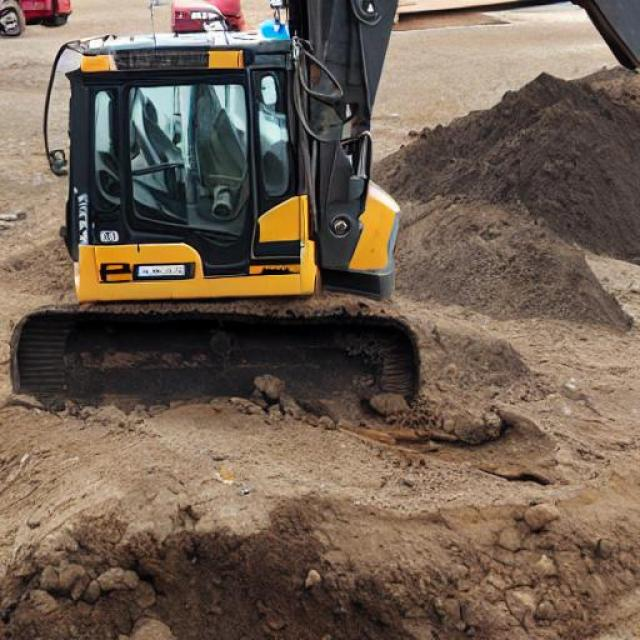crane: (385, 202, 444, 411)
excavator: (354, 336, 435, 410), (463, 383, 519, 419), (290, 398, 319, 423)
machinery: (585, 378, 624, 407)
truck: (126, 383, 290, 485)
